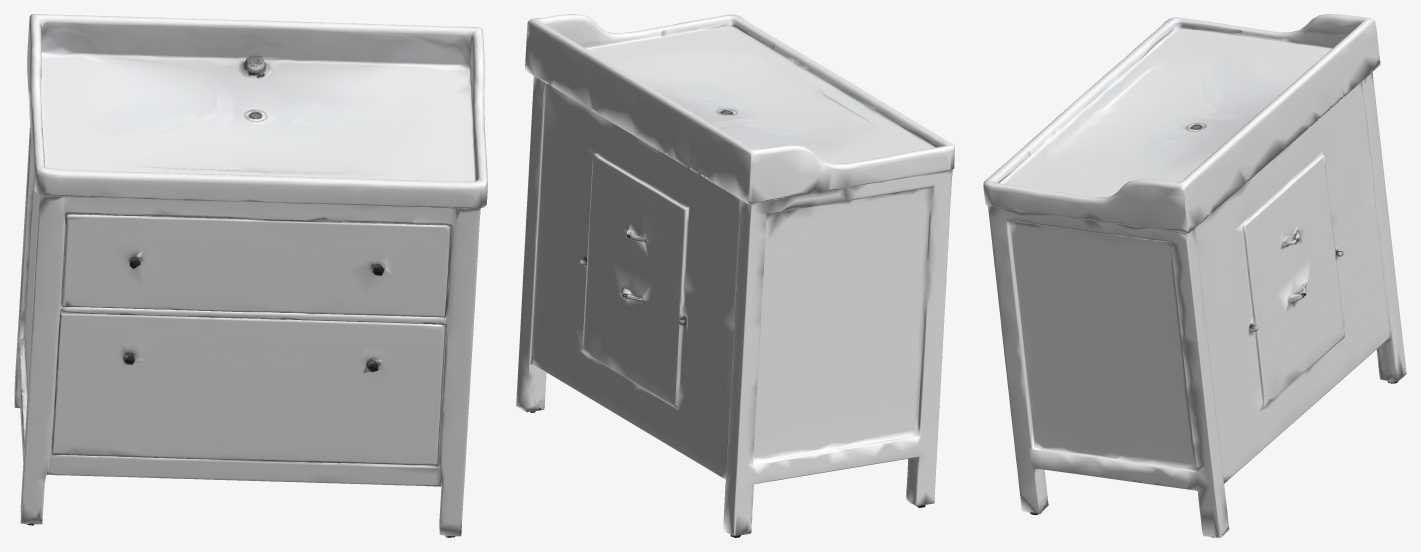
The picture shows the model from 3 angles, left to right: view 1: azimuth 30°, elevation 25°; view 2: azimuth 150°, elevation 25°; view 3: azimuth 270°, elevation 25°; orthographic projection. The views are drawn at different scales.
Parts seen in each view (by area): view 1: node_id4; view 2: node_id4; view 3: node_id4.
Boxes of the visible parts, x1,y1,x2,y2 form: node_id4: (14,14,487,537); node_id4: (516,14,954,537); node_id4: (983,14,1406,537).
Bounding box in the file's own units: 0.5866 × 0.5474 × 0.532.
Materials: 1 (1 with a texture image).
